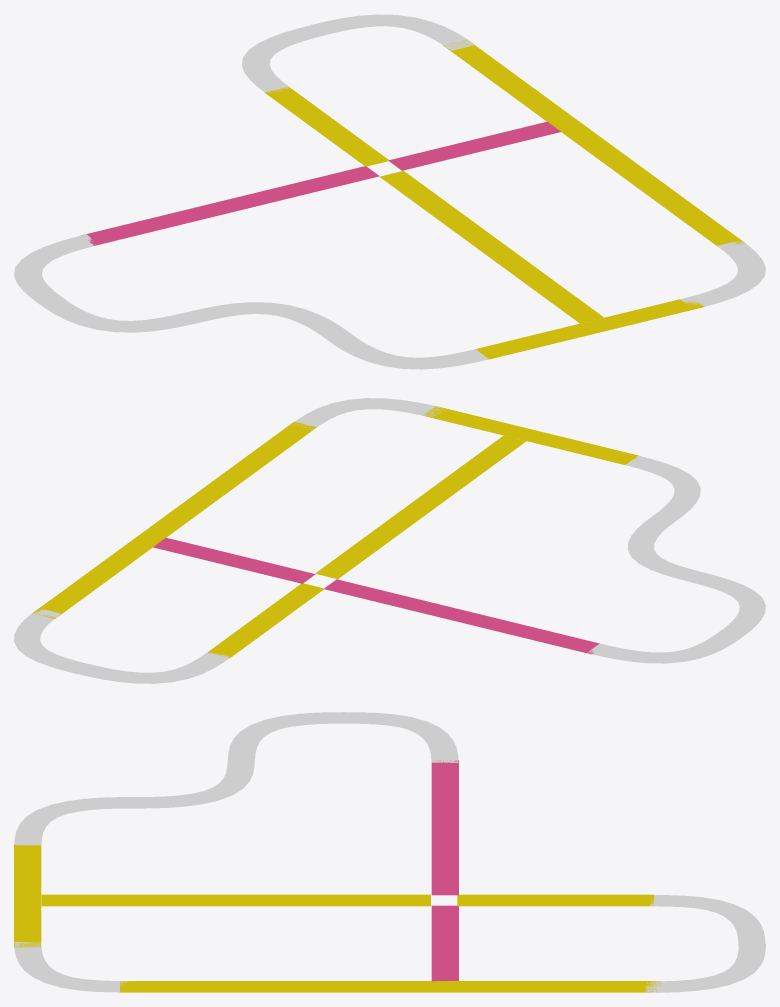
The model's file is mytrack.dae.
3 renders of one model, top to bottom at view 1: azimuth 30°, elevation 25°; view 2: azimuth 150°, elevation 25°; view 3: azimuth 270°, elevation 25°, orthographic. The views are drawn at different scales.
Parts seen in each view (by area): view 1: roaf_medium.010, roaf_medium.007, roaf_medium.001, roaf_medium.012, road_large, roaf_medium.002, roaf_medium.006, road_piece.005, road_piece.001, road_piece.002, road_piece.003, road_piece.010 (+2 smaller); view 2: roaf_medium.010, roaf_medium.007, roaf_medium.001, roaf_medium.012, road_large, roaf_medium.002, roaf_medium.006, road_piece.003, road_piece.002, road_piece.004, road_piece.001, road_piece.010 (+2 smaller); view 3: roaf_medium.010, roaf_medium.007, roaf_medium.001, roaf_medium.012, road_large, roaf_medium.002, roaf_medium.006, road_piece.001, road_piece.002, road_piece.004, road_piece.005, road_piece.010 (+2 smaller).
Part boxes in pixels (box(x1,y1,x2,y2)): roaf_medium.010: box(379, 170, 603, 323); roaf_medium.007: box(81, 166, 379, 245); roaf_medium.001: box(582, 140, 745, 245); roaf_medium.012: box(443, 40, 604, 147); road_large: box(475, 299, 704, 359); roaf_medium.002: box(265, 86, 389, 166); roaf_medium.006: box(389, 122, 560, 170); road_piece.005: box(311, 14, 474, 50); road_piece.001: box(185, 302, 349, 338); road_piece.002: box(325, 333, 488, 369); road_piece.003: box(37, 296, 198, 332); road_piece.010: box(241, 24, 326, 93); roaf_medium.010: box(315, 435, 526, 579); roaf_medium.007: box(324, 579, 599, 654); roaf_medium.001: box(163, 421, 316, 523); roaf_medium.012: box(32, 517, 186, 618); road_large: box(423, 406, 638, 464); roaf_medium.002: box(207, 583, 324, 658); roaf_medium.006: box(153, 537, 315, 583); road_piece.003: box(690, 572, 765, 638); road_piece.002: box(625, 455, 700, 521); road_piece.004: box(587, 633, 742, 663); road_piece.001: box(627, 516, 703, 581); road_piece.010: box(78, 651, 230, 683); roaf_medium.010: box(41, 894, 430, 906); roaf_medium.007: box(431, 760, 458, 895); roaf_medium.001: box(120, 981, 392, 992); roaf_medium.012: box(388, 981, 660, 992); road_large: box(14, 844, 41, 947); roaf_medium.002: box(457, 894, 653, 906); roaf_medium.006: box(431, 905, 458, 981); road_piece.001: box(135, 759, 254, 808); road_piece.002: box(14, 797, 135, 845); road_piece.004: box(343, 712, 458, 762); road_piece.005: box(646, 944, 765, 992); road_piece.010: box(650, 895, 765, 945).
Size of the model in its own units: 175 by 199 by 0.
